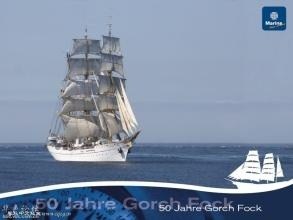fanchuan: (45, 24, 143, 162)
